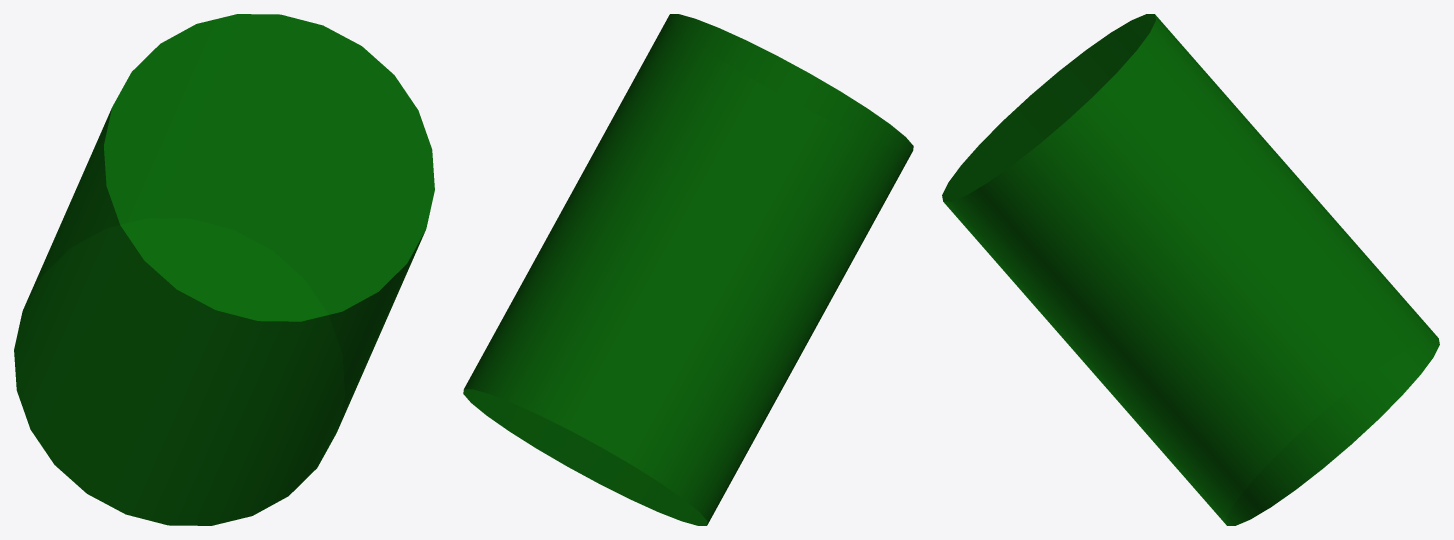
Rendered from Event_420107950_jet_3.fbx.
The picture shows the model from 3 angles, left to right: view 1: azimuth 30°, elevation 25°; view 2: azimuth 150°, elevation 25°; view 3: azimuth 270°, elevation 25°; orthographic projection. The views are drawn at different scales.
Parts seen in each view (by area): view 1: Model; view 2: Model; view 3: Model.
Boxes of the visible parts, left/top/right/bottom form: Model: left=14, top=14, right=434, bottom=525; Model: left=463, top=14, right=913, bottom=525; Model: left=942, top=14, right=1439, bottom=525.
Bounding box in the file's own units: 0.0501 × 0.0725 × 0.0704.
